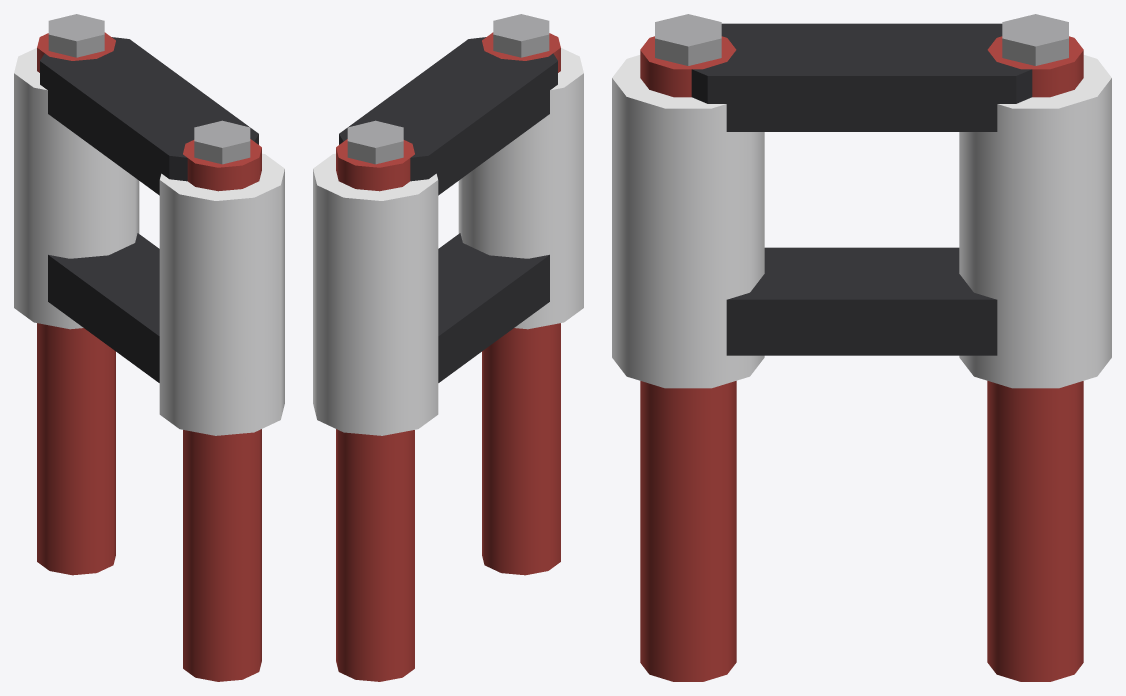
The model's file is cruiser_wide_glide_upper_lod1.glb.
3 views of the same model, side by side, from view 1: azimuth 30°, elevation 25°; view 2: azimuth 150°, elevation 25°; view 3: azimuth 270°, elevation 25° (orthographic). The views are drawn at different scales.
Parts seen in each view (by area): view 1: cruiser_wide_glide_upper_lod1; view 2: cruiser_wide_glide_upper_lod1; view 3: cruiser_wide_glide_upper_lod1.
Part boxes in pixels (left/top/right/bottom): cruiser_wide_glide_upper_lod1: left=14, top=14, right=284, bottom=681; cruiser_wide_glide_upper_lod1: left=313, top=14, right=583, bottom=681; cruiser_wide_glide_upper_lod1: left=612, top=14, right=1111, bottom=681.
Bounding box in the file's own units: 0.094 × 0.452 × 0.3238.
